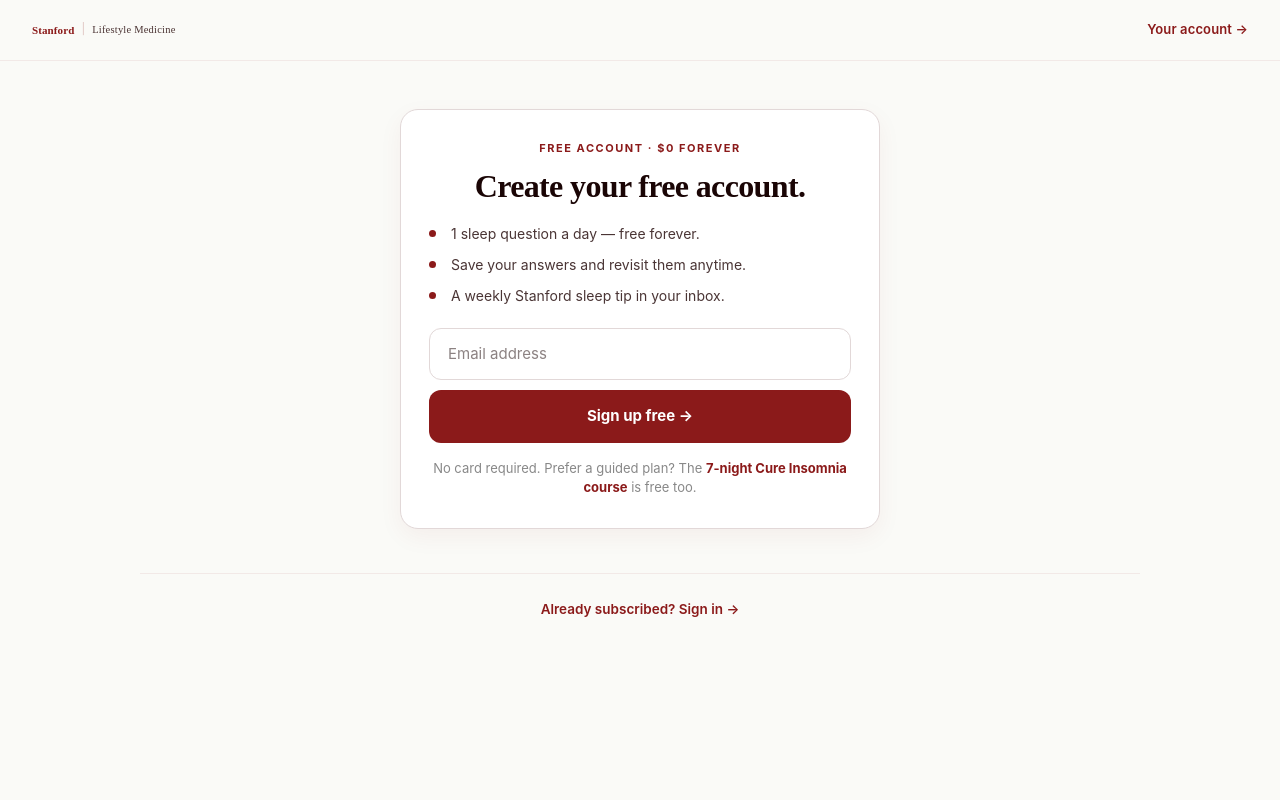
Scenario: /subscribe free-account signup › server failure: renders the inline error and keeps the form
Expected: the heading "Create your free account." is shown, [475, 168, 805, 204]
Type "newbie@example.com" into the field with placeholder "Email address" at point(640, 354), box [429, 328, 851, 380]
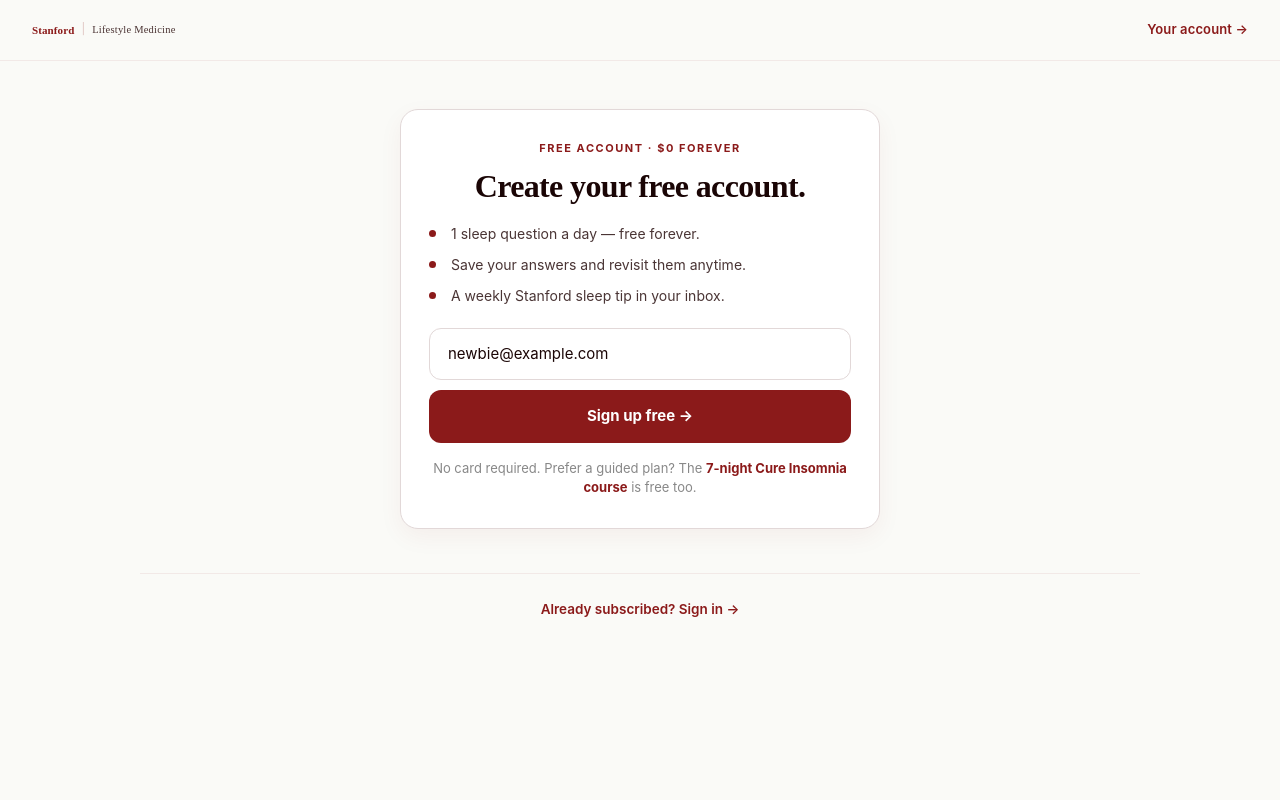
Click the button "Sign up free →" at point(640, 417), box [429, 390, 851, 443]
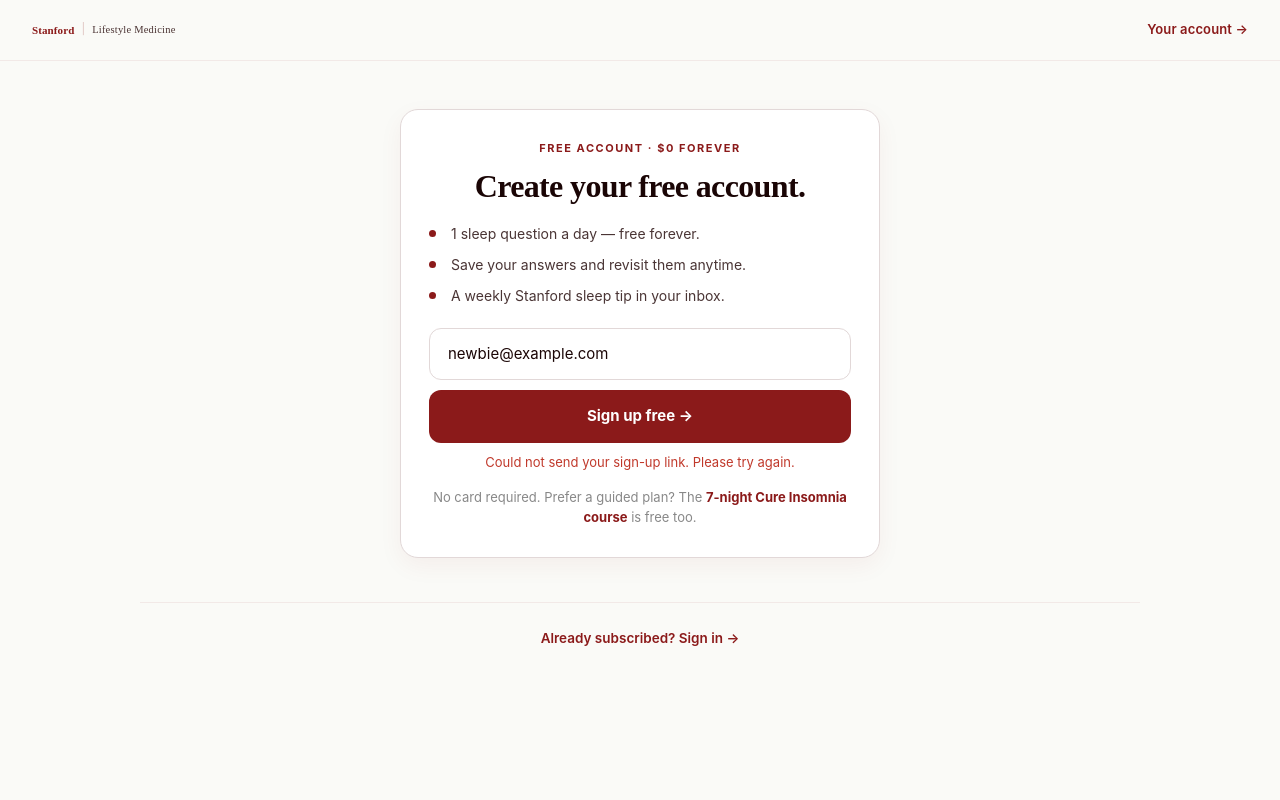
Result: the text "Could not send your sign-up link. Please try again." is shown at [485, 454, 795, 470]
